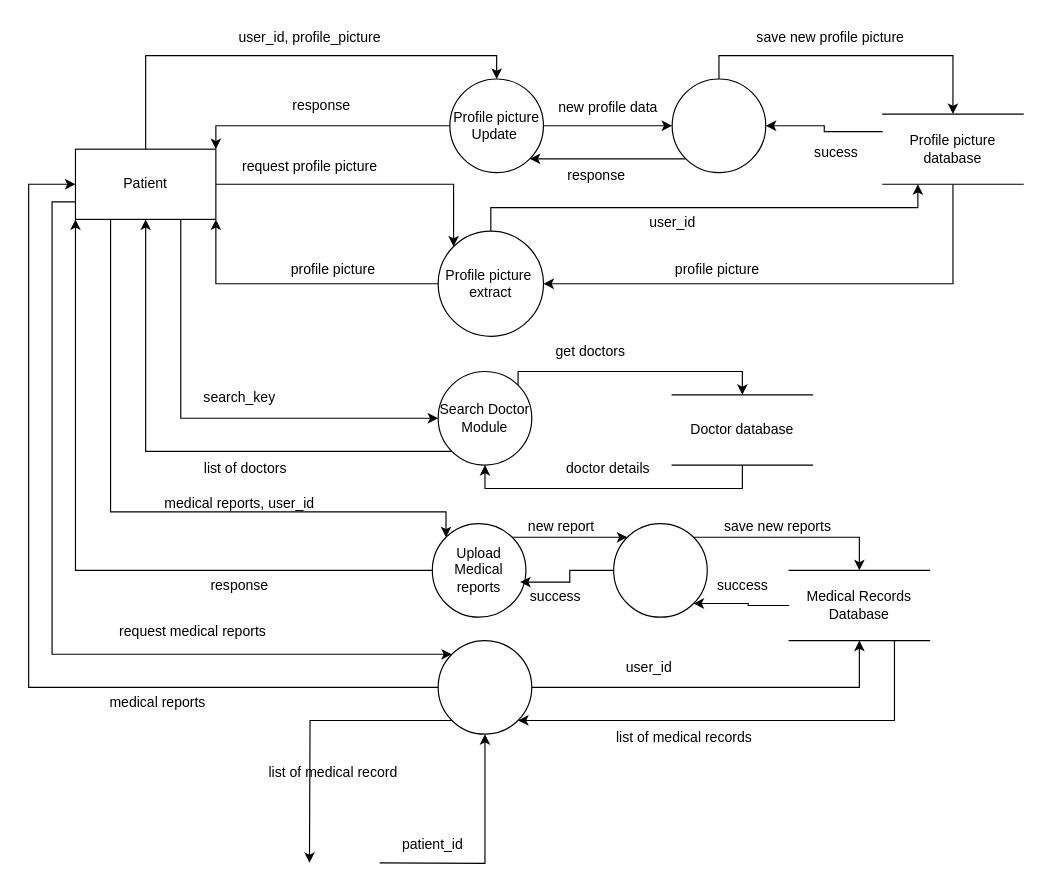
Some shapes in this 1044 by 893 pixel diagram are drawn without their labels. The shapes that lost their labels are listed below. From the top down, each one's centre as x and y in pixels, then its label:
At point 718,125: "seialization".
At point 659,569: "Serialization".
At point 484,686: "fetch medical records".
